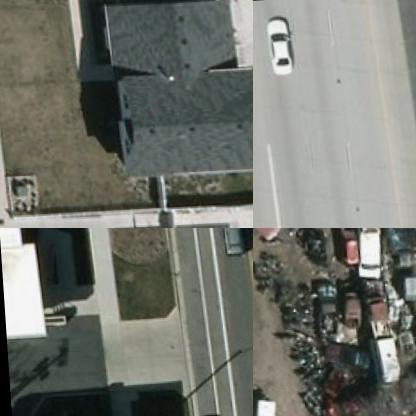car: (264, 15, 298, 76), (348, 228, 380, 274), (217, 228, 251, 258)
